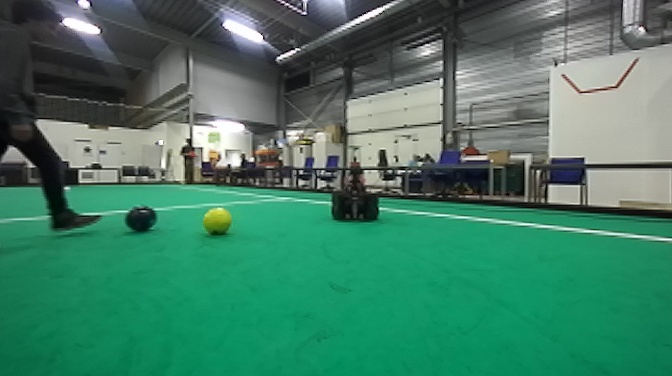ball: (121, 201, 160, 233), (200, 204, 235, 238)
robot: (327, 139, 384, 225)
